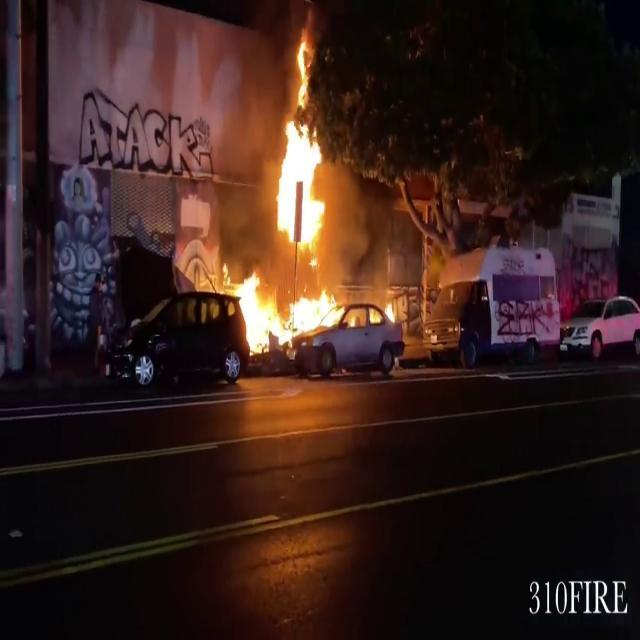Fire: (223, 110, 394, 358)
